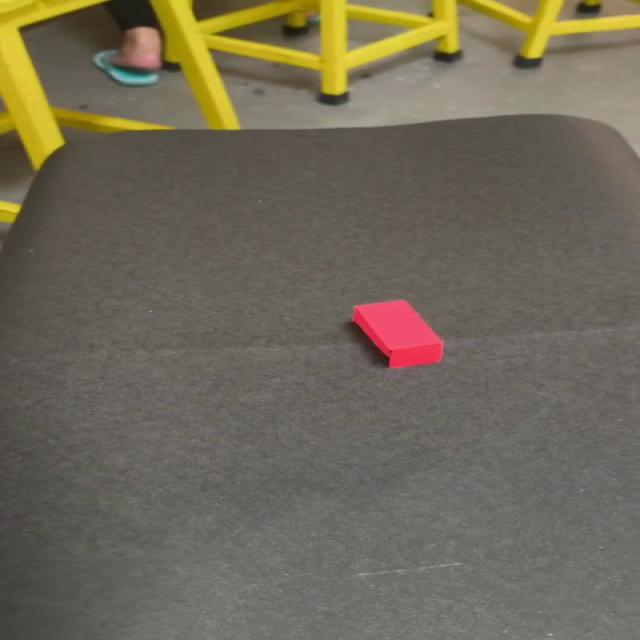red block: (349, 299, 444, 368)
